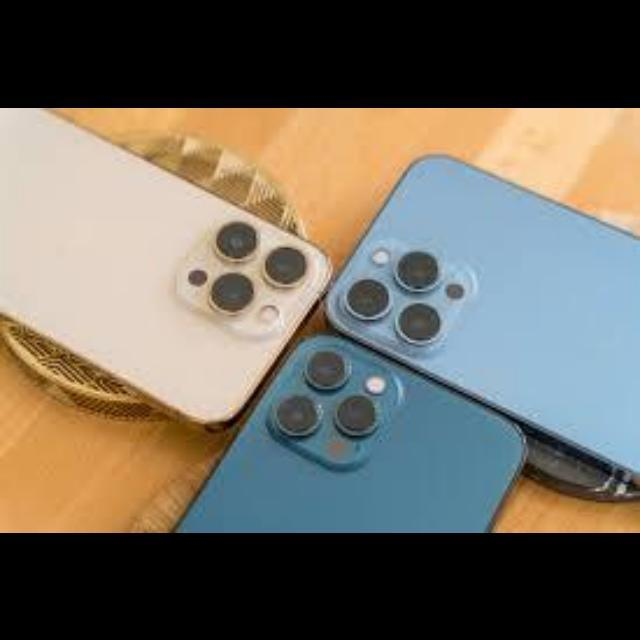Phone: (2, 108, 334, 428), (325, 152, 639, 472), (170, 334, 528, 532)
